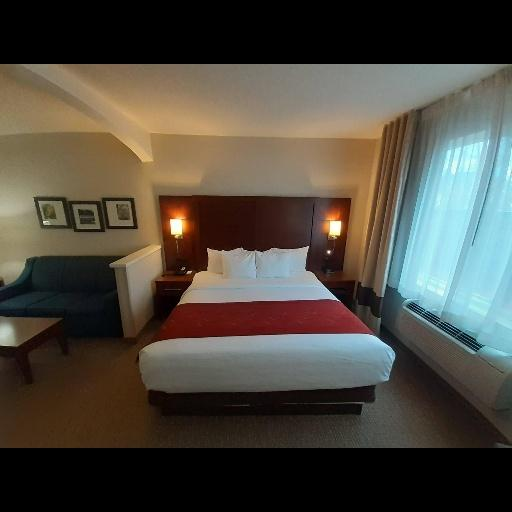clean_bed: (137, 190, 395, 416)
organised_pillow: (202, 241, 312, 284)
organized table: (0, 317, 75, 381)
